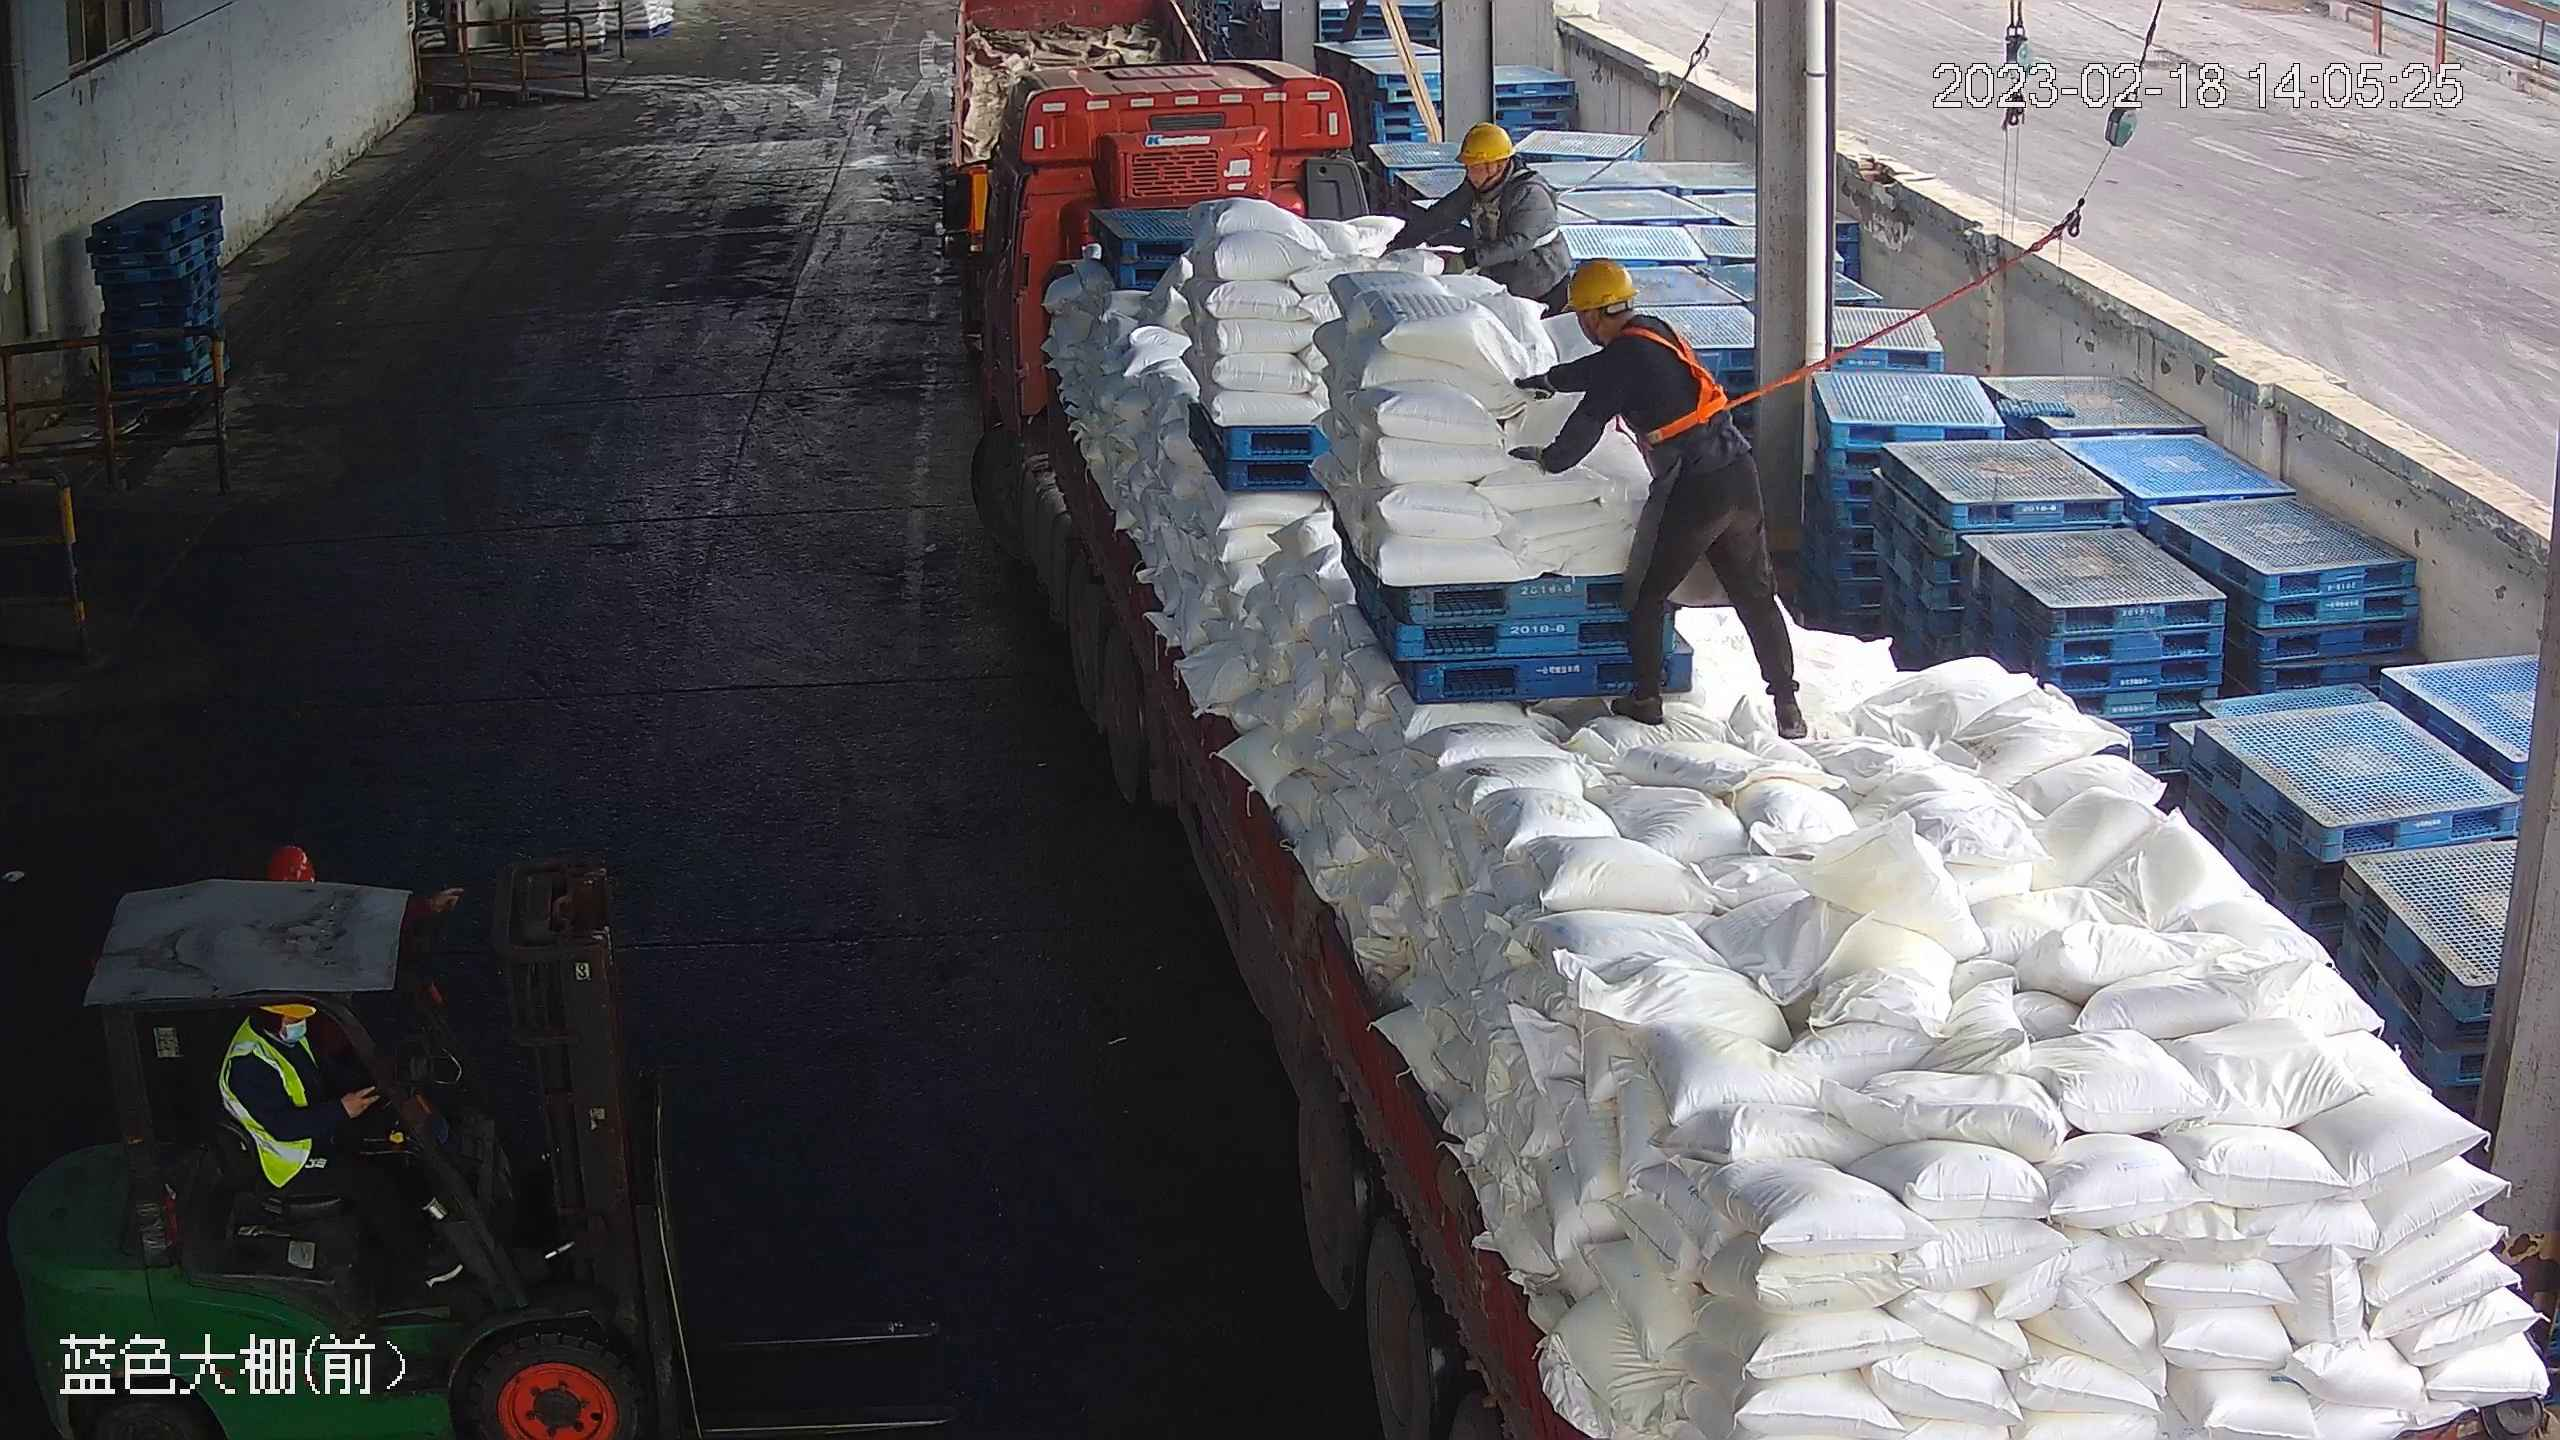belt: (1619, 314, 1741, 451), (1467, 167, 1560, 245)
head: (1554, 257, 1699, 386), (1446, 119, 1551, 217)
helmet: (1557, 258, 1636, 312), (1455, 118, 1516, 164)
people: (1500, 258, 1812, 745), (212, 990, 446, 1281), (1381, 119, 1568, 315)
truck: (945, 41, 2551, 1440)
